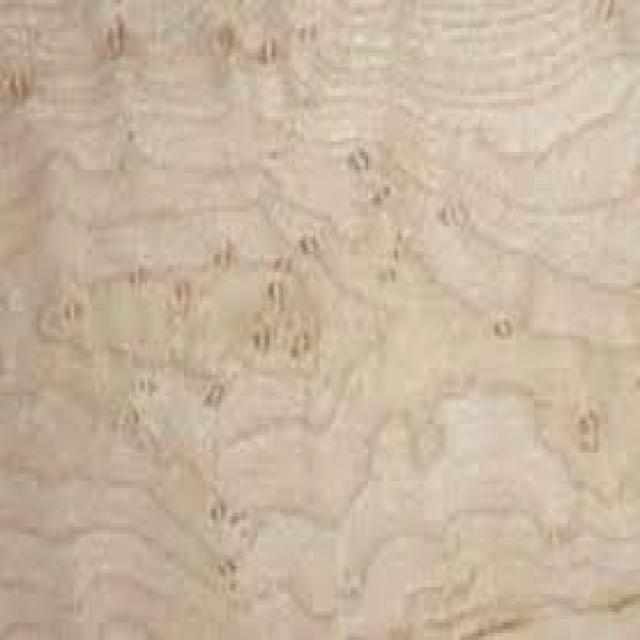perfect-wooden-plate: (0, 0, 640, 637)
